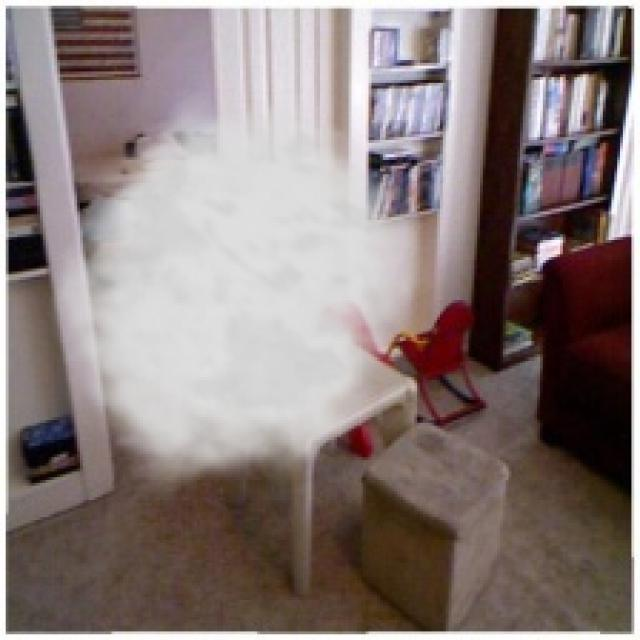Smoke: (42, 88, 434, 500)
